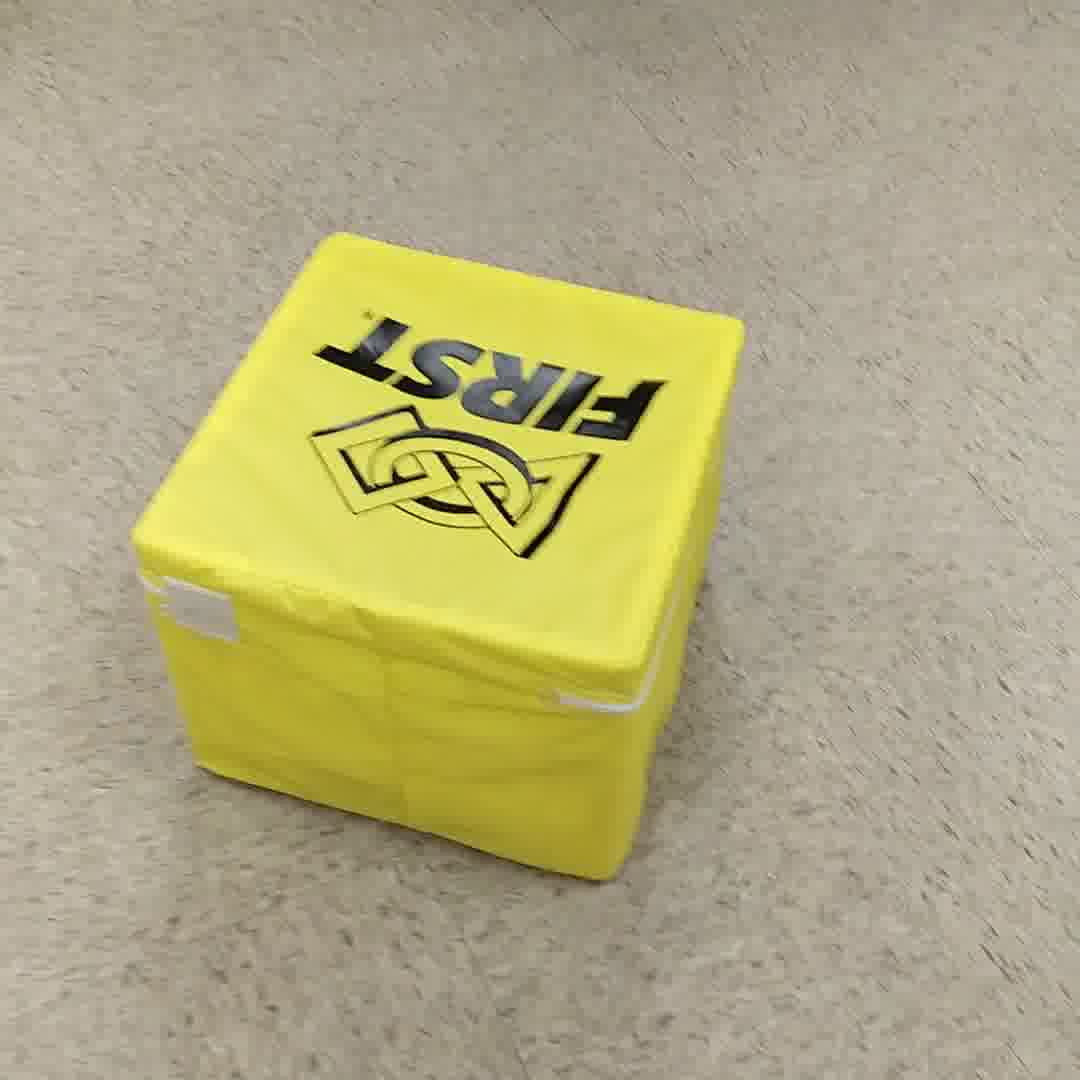box: (129, 225, 765, 883)
